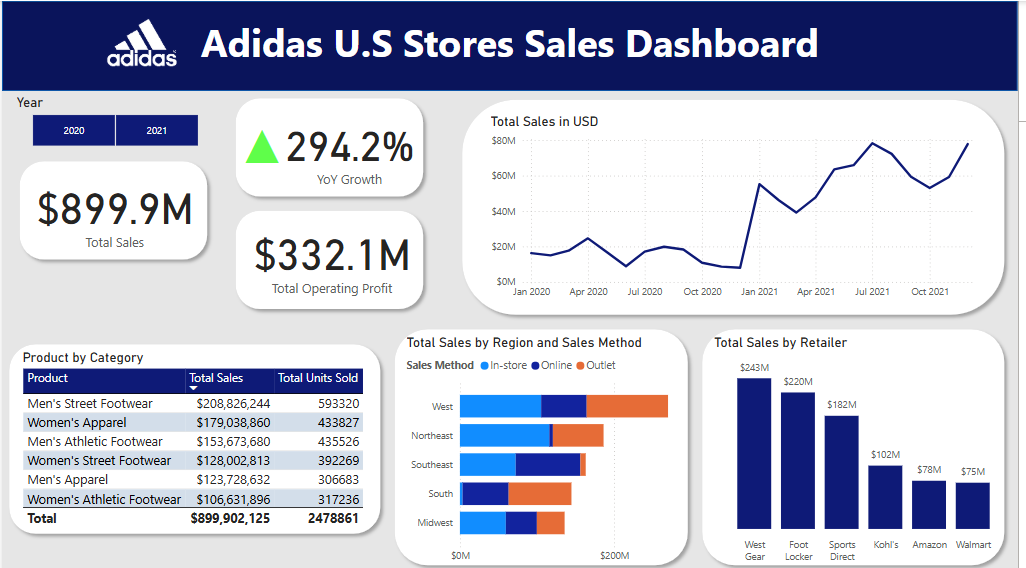

The page's visual inventory and layout, read from the dashboard file:
{"tool":"powerbi","page":{"name":"Page 1","canvas":[1280,720],"ordinal":0},"visuals":[{"type":"group","id":"g1","title":"Group 2","box":[285,113.1,254.2,142.1],"z":0},{"type":"shape","box":[873.1,404.4,398.7,315.6],"z":1000},{"type":"shape","box":[0,423.3,485.7,257],"z":2000},{"type":"shape","box":[485.7,404.4,387.4,315.6],"z":3000},{"type":"shape","box":[570.7,115.3,701.1,289.1],"z":4000},{"type":"shape","box":[285,255.1,254.2,142.1],"z":4000,"group":"g2"},{"type":"shape","box":[0,0,1279.4,113.4],"z":5000},{"type":"shape","box":[285,113.1,254.2,142.1],"z":5000,"group":"g1"},{"type":"shape","box":[5.7,189,272.1,149.3],"z":6000},{"type":"textbox","box":[0,13.2,1279.4,88.8],"z":7000},{"type":"image","box":[126.6,7.6,98.3,88.8],"z":8000},{"type":"lineChart","title":"Total Sales in USD","fields":{"Category":["Data.Invoice Date.Variation.Date Hierarchy.Year","Data.Invoice Date.Variation.Date Hierarchy.Month"],"Y":["Sum(Data.Total Sales)"]},"box":[610.4,141.7,635,241.9],"z":9000},{"type":"columnChart","title":"Total Sales by Retailer","fields":{"Category":["Data.Retailer"],"Y":["Data.SUM of Sales"]},"box":[892.5,419.6,380.4,296.3],"z":10000},{"type":"card","fields":{"Values":["Data.YoY Growth"]},"box":[338.3,130.4,198.4,113.4],"z":11000},{"type":"card","fields":{"Values":["Data.SUM of Sales"]},"box":[33.3,206.7,215.5,117.4],"z":12000},{"type":"tableEx","title":"Product by Category","fields":{"Values":["Data.Product","Data.SUM of Sales","Sum(Data.Units Sold)"]},"box":[20.8,438.4,446,241.9],"z":13000},{"type":"card","fields":{"Values":["Data.TriangleIcon"]},"box":[291,141.7,71.8,71.8],"z":15000},{"type":"slicer","title":"Year","fields":{"Values":["Data.Invoice Date.Variation.Date Hierarchy.Year"]},"box":[13.2,117.2,257,71.8],"z":16000},{"type":"barChart","title":"Total Sales by Region and Sales Method","fields":{"Category":["Data.Region"],"Y":["Sum(Data.Total Sales)"],"Series":["Data.Sales Method"]},"box":[504.6,419.5,387.4,296.7],"z":17000},{"type":"group","id":"g2","title":"Group 2","box":[285,255.1,254.2,142.1],"z":18000},{"type":"card","fields":{"Values":["Sum(Data.Operating Profit)"]},"box":[295.3,261.7,241.1,125.2],"z":18500}]}

Visuals, with their boxes in screenshot pixels (x1, y1, x2, y2), scaled from the page's 1280x720 canvas onto the 1026x568 screenshot:
"Group 2" group: pyautogui.locateOnScreen(228, 89, 432, 201)
shape: pyautogui.locateOnScreen(700, 319, 1019, 567)
shape: pyautogui.locateOnScreen(0, 334, 389, 537)
shape: pyautogui.locateOnScreen(389, 319, 700, 567)
shape: pyautogui.locateOnScreen(457, 91, 1019, 319)
shape: pyautogui.locateOnScreen(228, 201, 432, 313)
shape: pyautogui.locateOnScreen(0, 0, 1025, 89)
shape: pyautogui.locateOnScreen(228, 89, 432, 201)
shape: pyautogui.locateOnScreen(5, 149, 223, 267)
textbox: pyautogui.locateOnScreen(0, 10, 1025, 80)
image: pyautogui.locateOnScreen(101, 6, 180, 76)
"Total Sales in USD" lineChart: pyautogui.locateOnScreen(489, 112, 998, 303)
"Total Sales by Retailer" columnChart: pyautogui.locateOnScreen(715, 331, 1020, 565)
card - Data.YoY Growth: pyautogui.locateOnScreen(271, 103, 430, 192)
card - Data.SUM of Sales: pyautogui.locateOnScreen(27, 163, 199, 256)
"Product by Category" tableEx: pyautogui.locateOnScreen(17, 346, 374, 537)
card - Data.TriangleIcon: pyautogui.locateOnScreen(233, 112, 291, 168)
"Year" slicer: pyautogui.locateOnScreen(11, 92, 217, 149)
"Total Sales by Region and Sales Method" barChart: pyautogui.locateOnScreen(404, 331, 715, 565)
"Group 2" group: pyautogui.locateOnScreen(228, 201, 432, 313)
card - Sum(Data.Operating Profit): pyautogui.locateOnScreen(237, 206, 430, 305)
